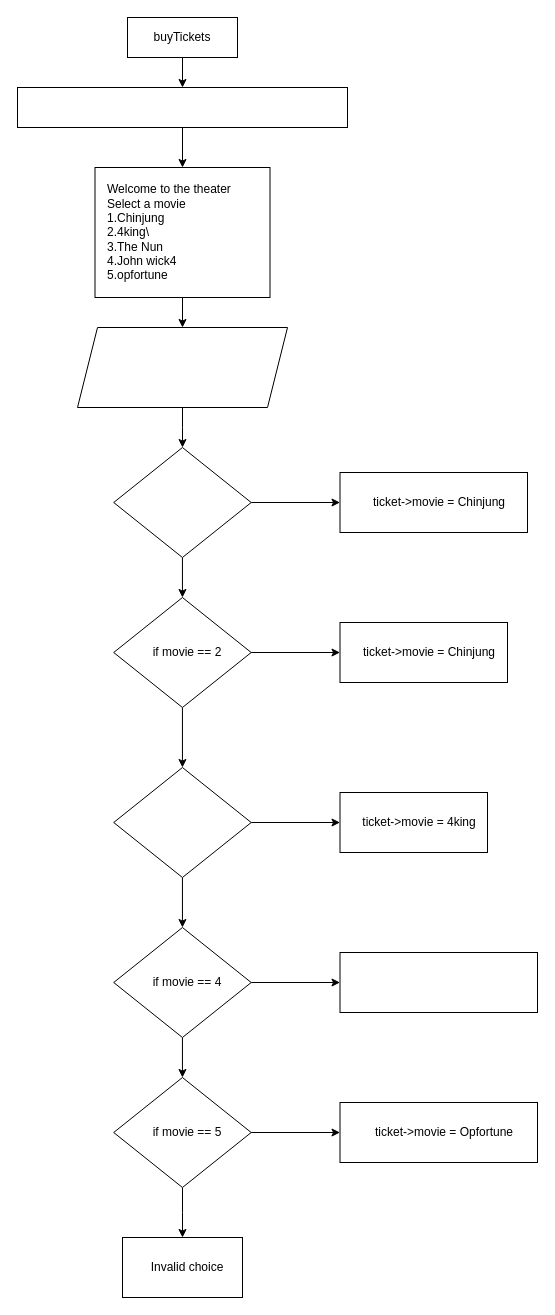
Image size: 555x1315. Some labels were removed from this diagram. Here are the shapes that lost their labels. From the top down, the centre of each, then its label:
At point 182,107: "int isMember, struct Ticket *ticket, int *seats, int numTickets".
At point 182,367: "Enter you choice : int movie scanf -> movie".
At point 182,502: "if movie == 1".
At point 182,822: "if movie == 3".
At point 438,982: "ticket->movie = The Nun".
